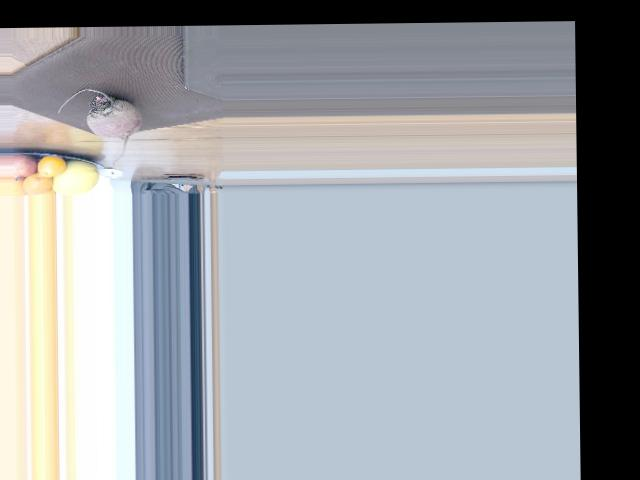beet: (57, 88, 142, 162)
